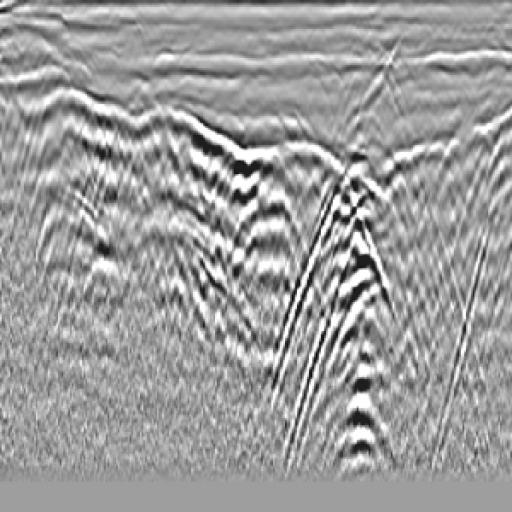metalic: (185, 111, 336, 324)
